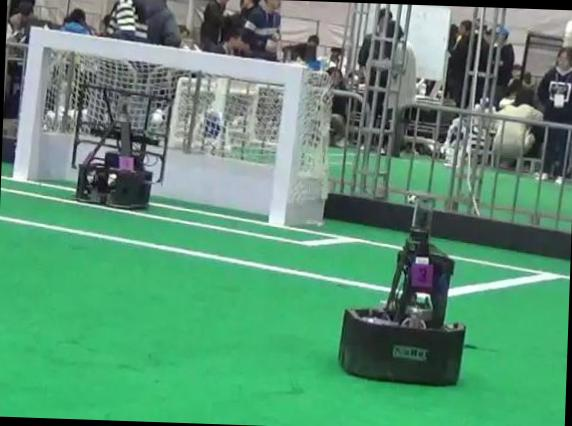goal: (269, 64, 304, 224), (12, 27, 44, 178)
robot: (340, 196, 467, 385), (75, 105, 152, 208)
